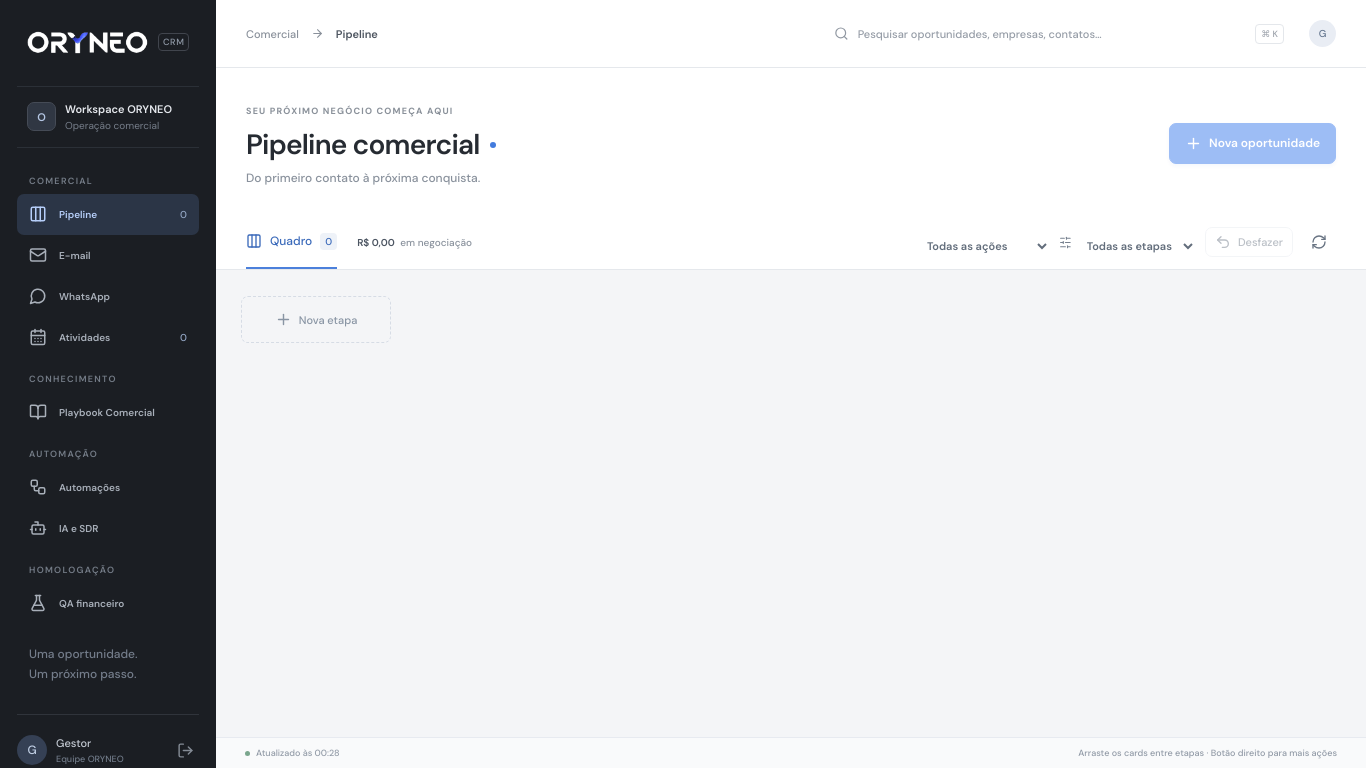
Scenario: homologação financeira › mostra o link Stripe TEST da fatura Boleto e a consulta de compensação
This screenshot has width=1366, height=768.
What coordinates should you click on to do the following:
click the button "QA financeiro"
I would click on:
 (108, 603)
Its box is [17,582,199,624].
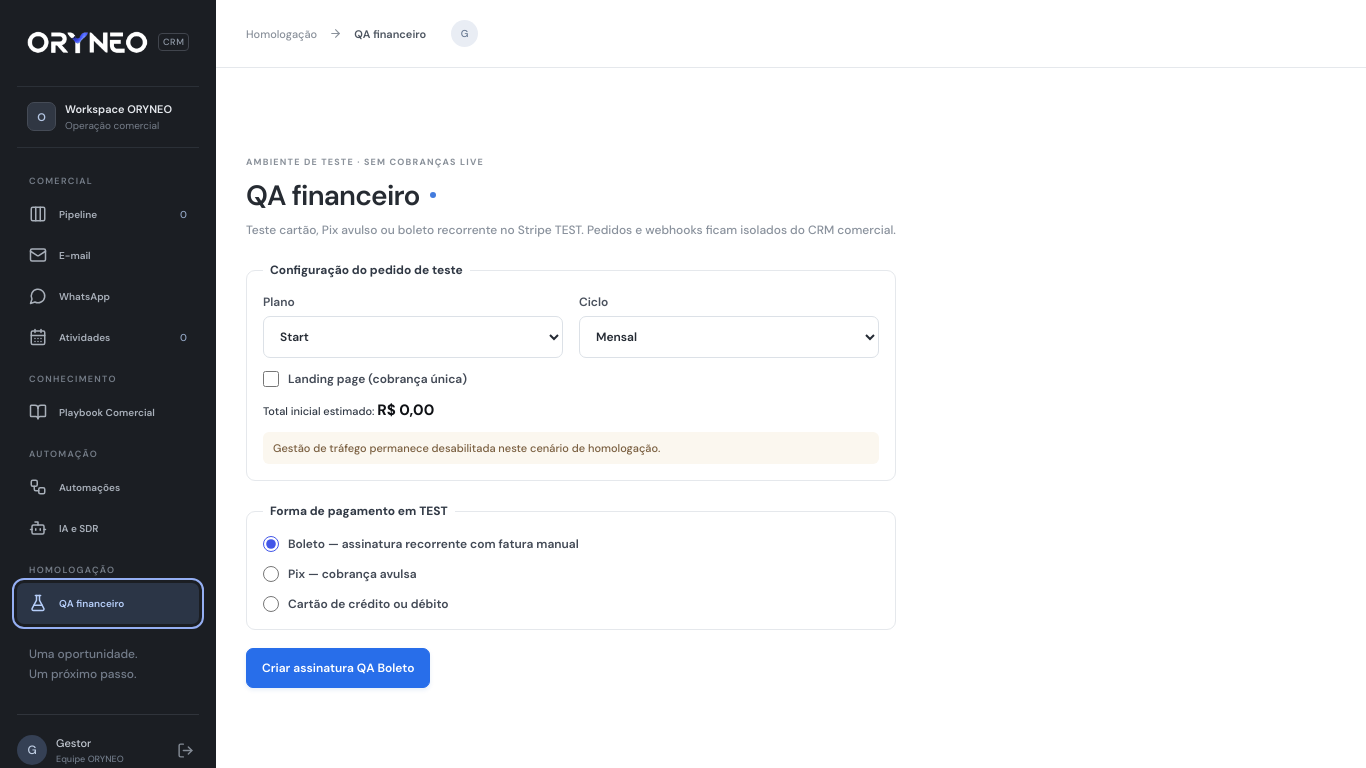
What coordinates should you click on to do the following:
click the button "Criar assinatura QA Boleto"
I would click on:
 (338, 668)
Its box is [246,648,430,688].
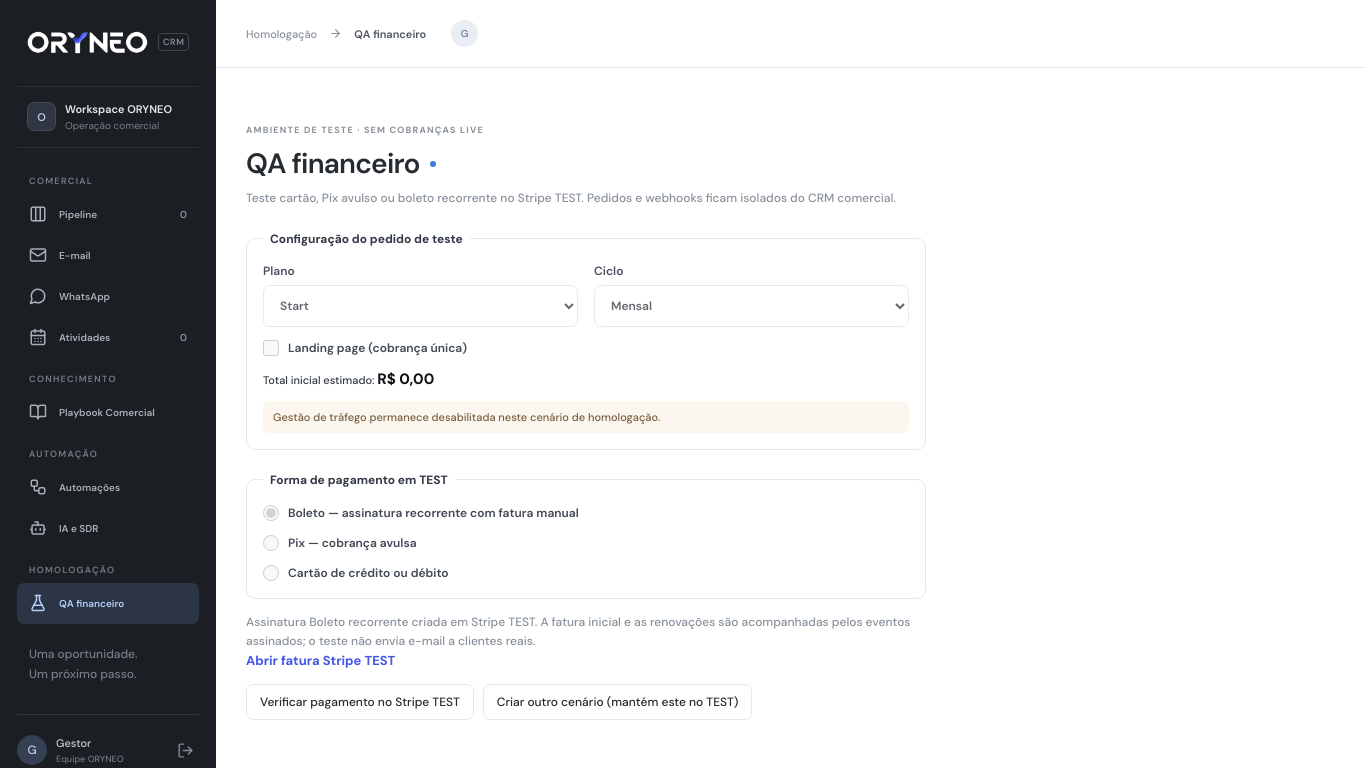
What coordinates should you click on to do the following:
click the button "Verificar pagamento no Stripe TEST"
I would click on:
 (360, 702)
Its box is [246,684,474,720].
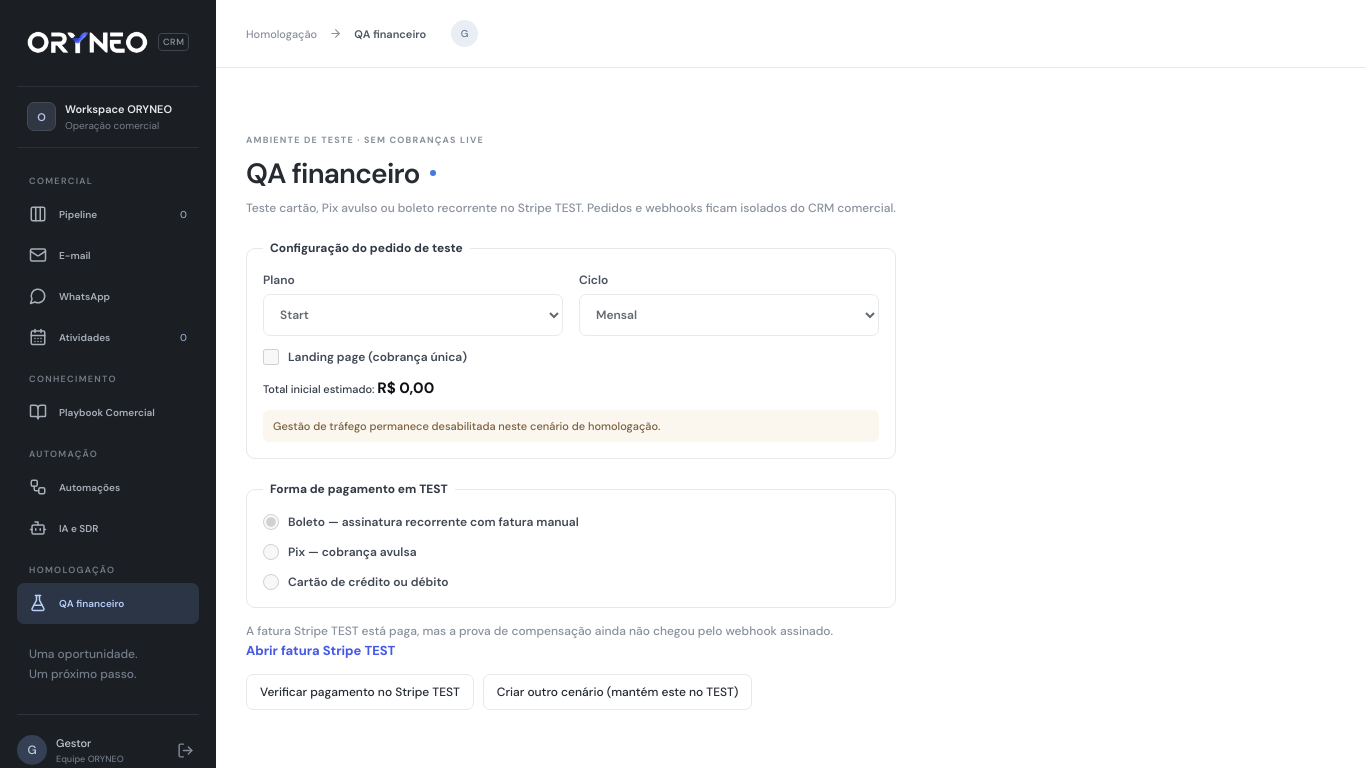
expect the text "prova de compensação ainda não chegou" is shown: met, box [246,623,833,639]
